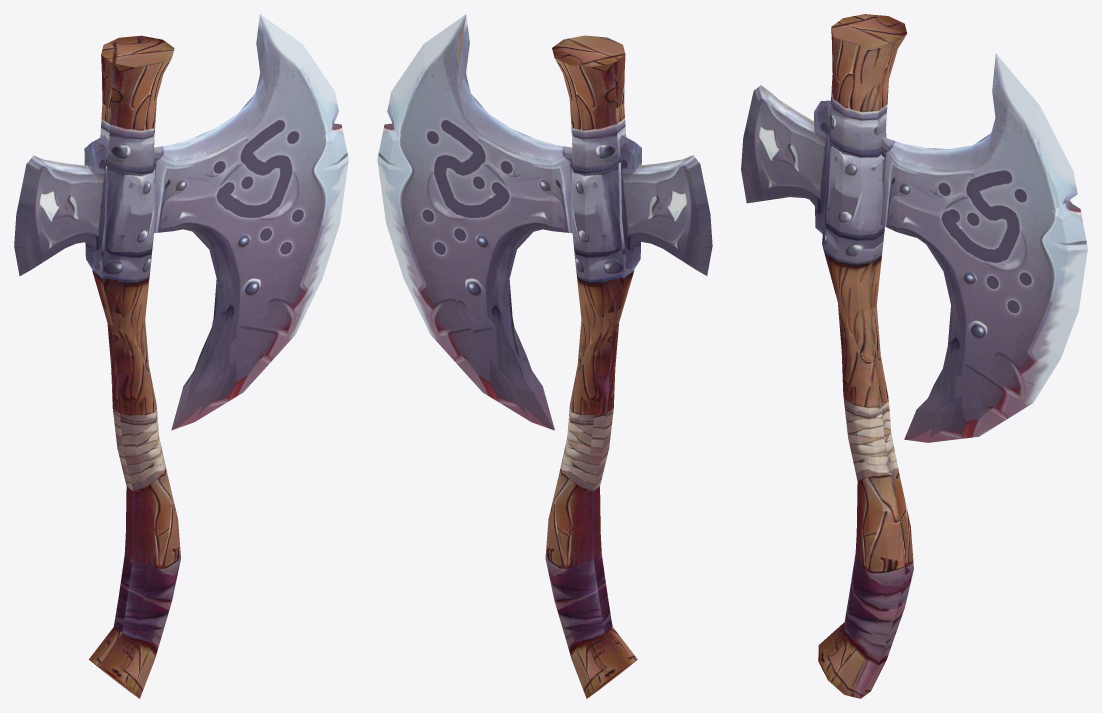
3 views of the same model, side by side, from view 1: azimuth 30°, elevation 25°; view 2: azimuth 150°, elevation 25°; view 3: azimuth 330°, elevation 25° (orthographic). The views are drawn at different scales.
Visible parts, largest first — view 1: Axe; view 2: Axe; view 3: Axe.
Boxes of the visible parts, left/top/right/bottom form: Axe: left=14, top=14, right=348, bottom=698; Axe: left=377, top=14, right=712, bottom=698; Axe: left=741, top=14, right=1087, bottom=698.
Bounding box in the file's own units: 0.4845 × 0.8993 × 0.0941.
2 materials, 2 textured.
